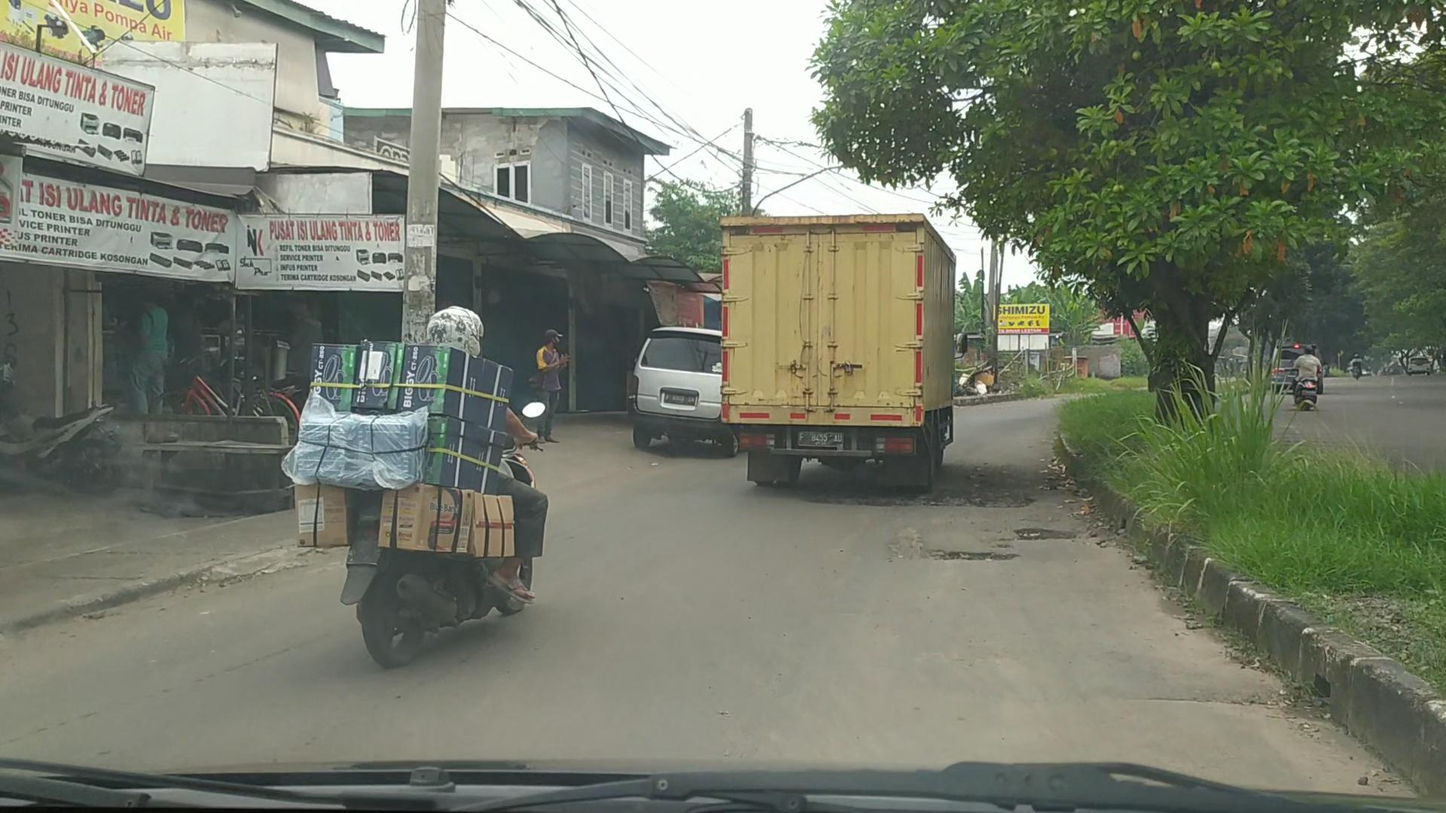pothole: (949, 543, 1011, 565), (1005, 526, 1071, 543)
